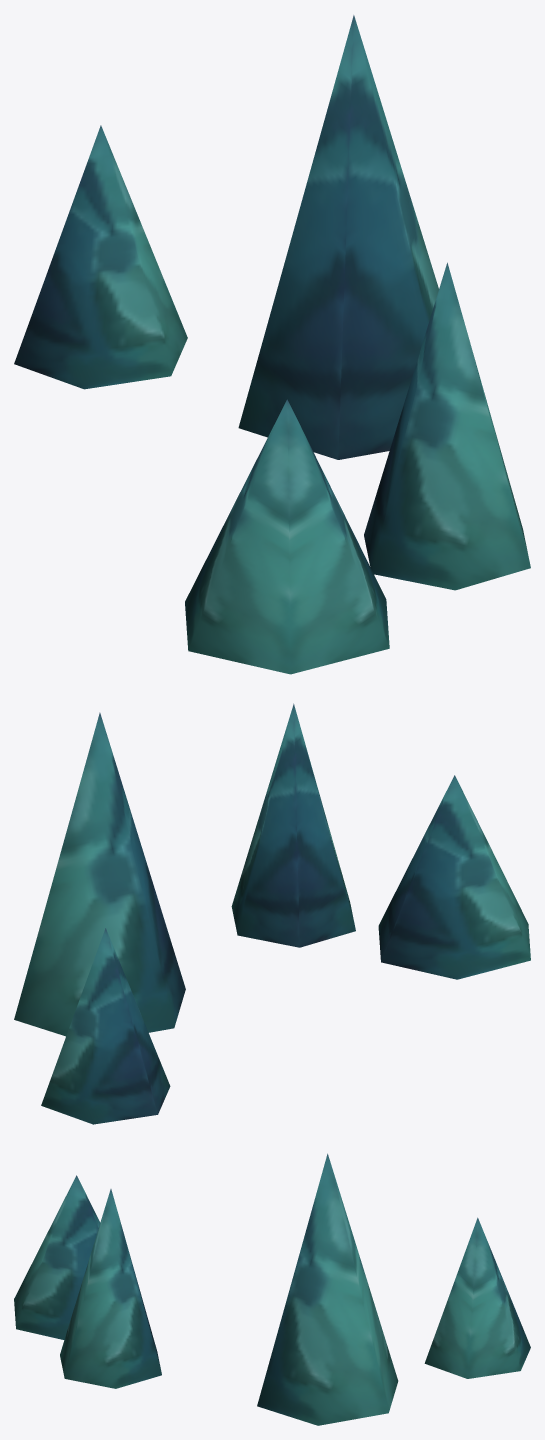
File: Battle05_Stone_03.FBX
The picture shows the model from 3 angles, top to bottom: view 1: azimuth 30°, elevation 25°; view 2: azimuth 150°, elevation 25°; view 3: azimuth 270°, elevation 25°; orthographic projection. The views are drawn at different scales.
Parts seen in each view (by area): view 1: Battle05_Stone_03; view 2: Battle05_Stone_03; view 3: Battle05_Stone_03.
Part boxes in pixels (bbox=[...]): Battle05_Stone_03: bbox=[14, 15, 530, 674]; Battle05_Stone_03: bbox=[14, 703, 530, 1124]; Battle05_Stone_03: bbox=[14, 1153, 530, 1425].
Size of the model in its own units: 4.26 by 3.35 by 6.49.
